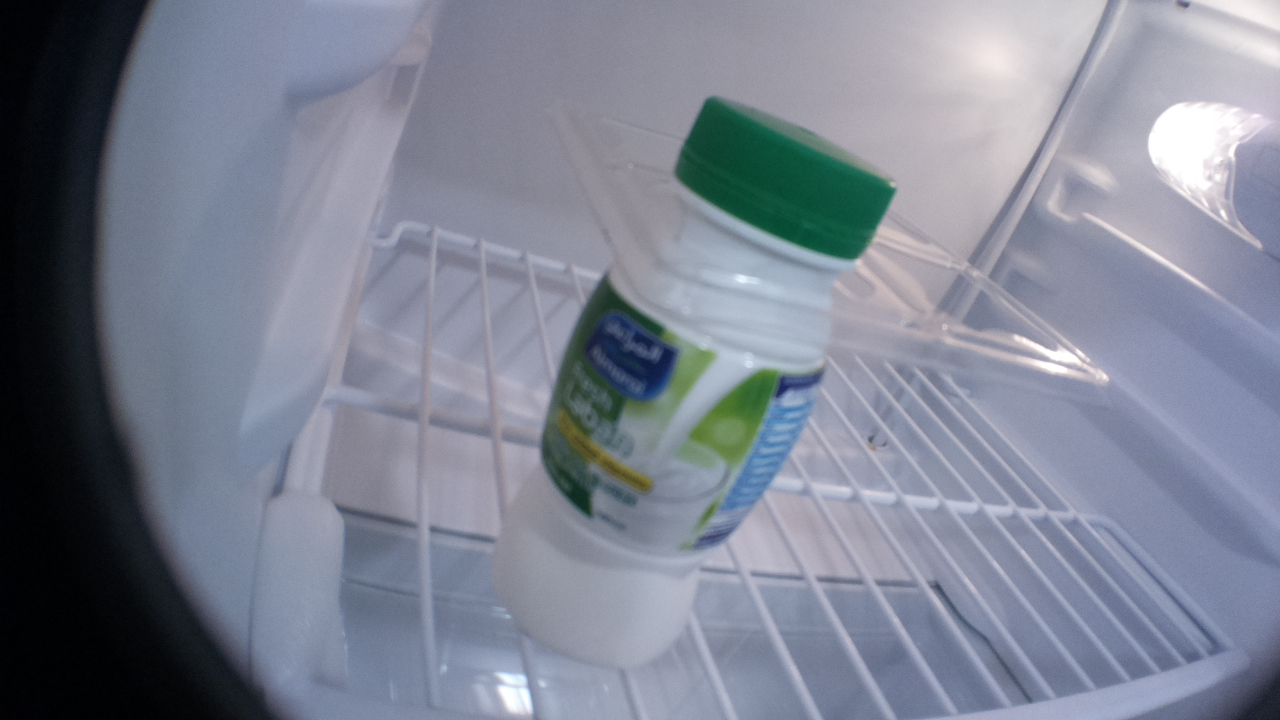laban: (478, 91, 897, 688)
